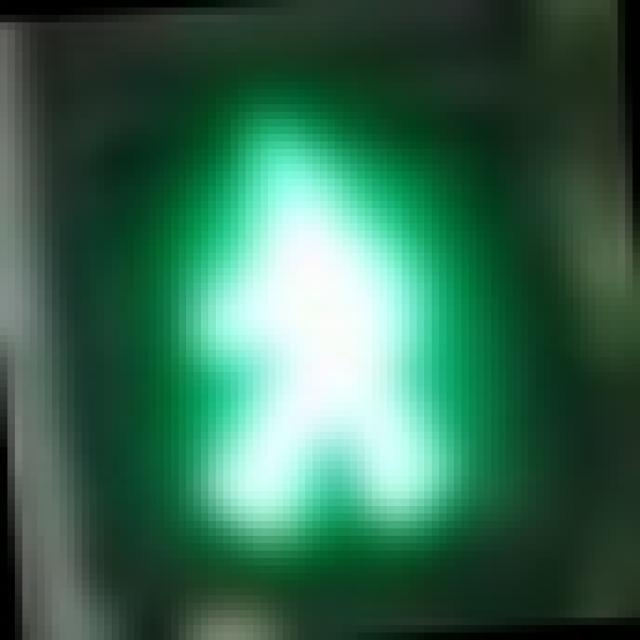geen-crossing: (142, 82, 476, 536)
